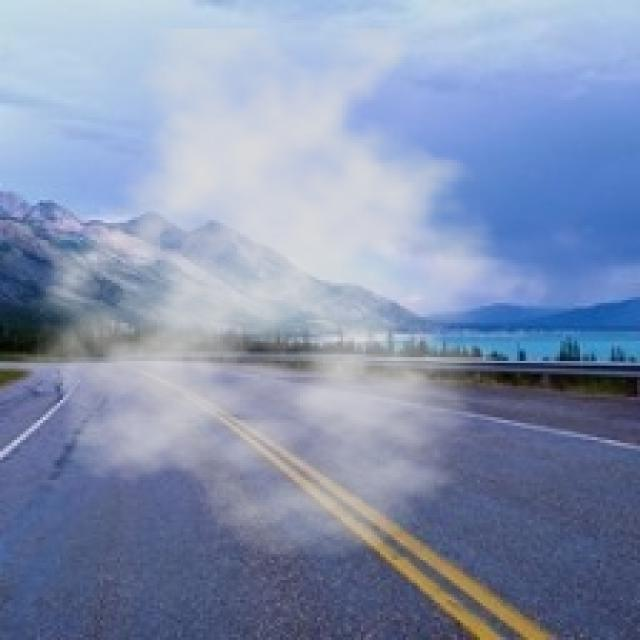Smoke: (14, 28, 557, 560)
